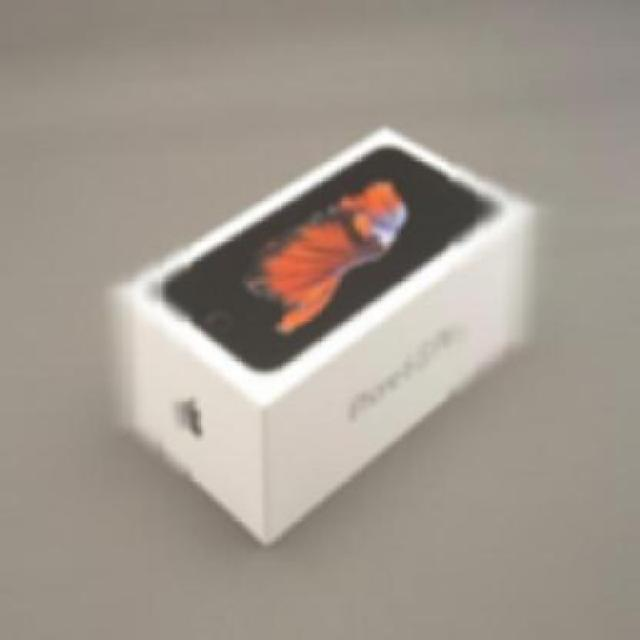box: (118, 122, 550, 544)
